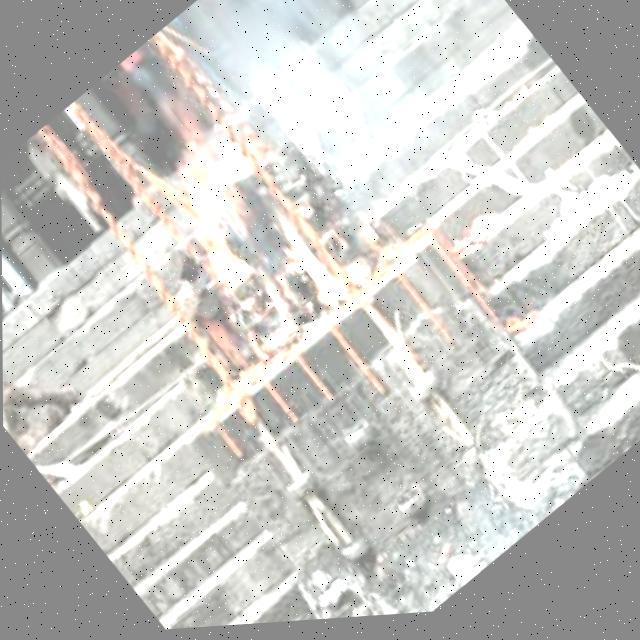Fire: (121, 87, 362, 368)
